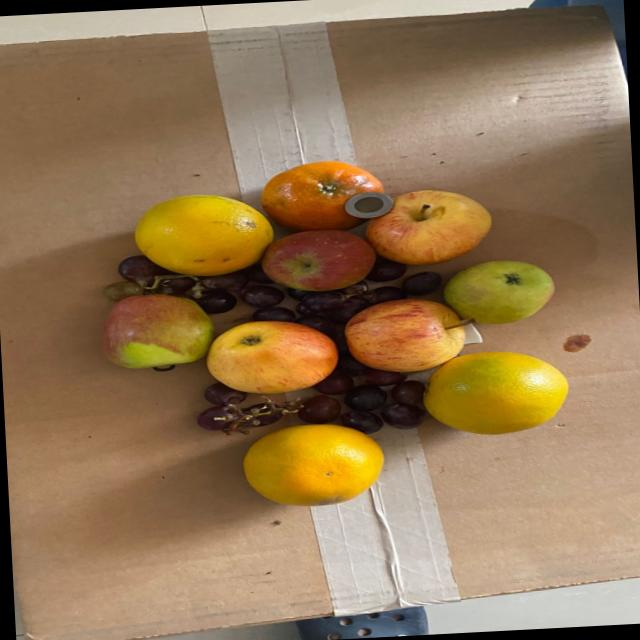moneda: (338, 193, 390, 219)
